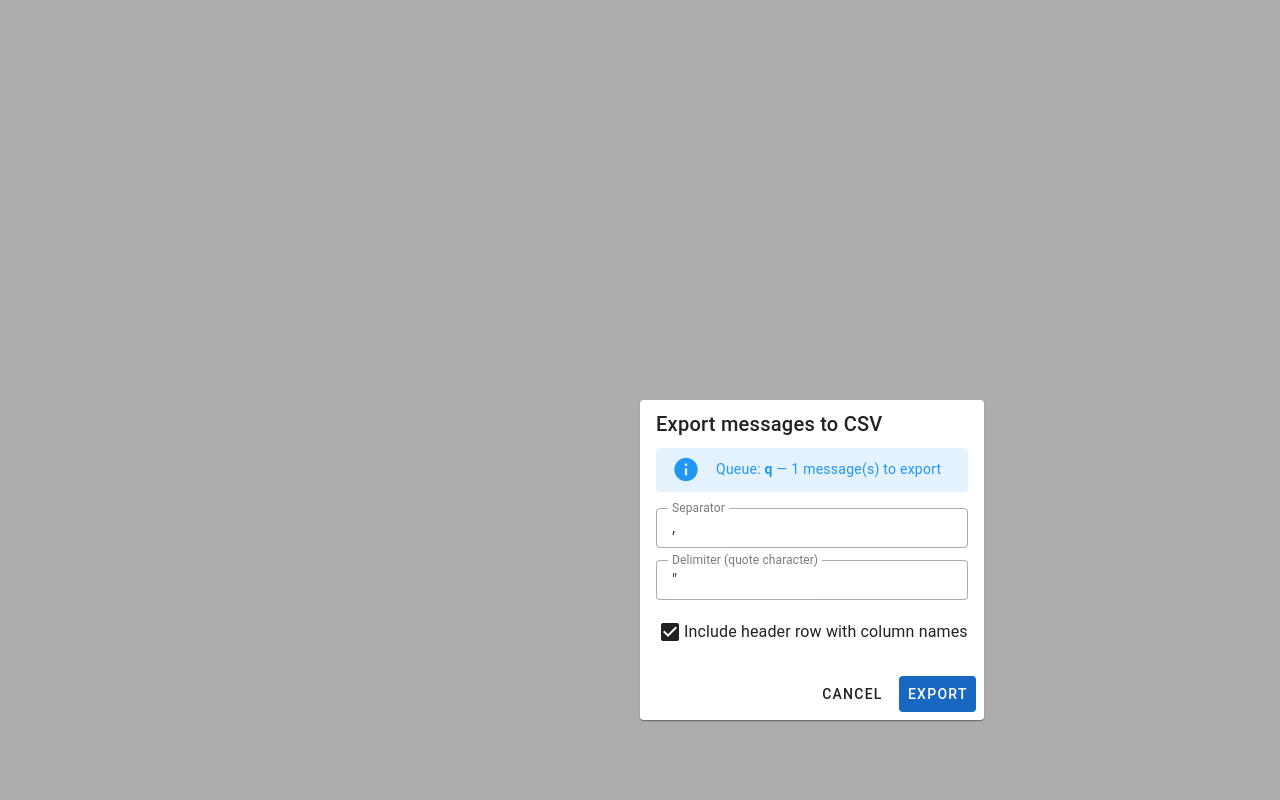
Test: ExportCsvDialog › disables Export when separator and delimiter are equal
Replace the text in the field labelled "Separator" with "\"" at (812, 528), box [656,508,968,548]
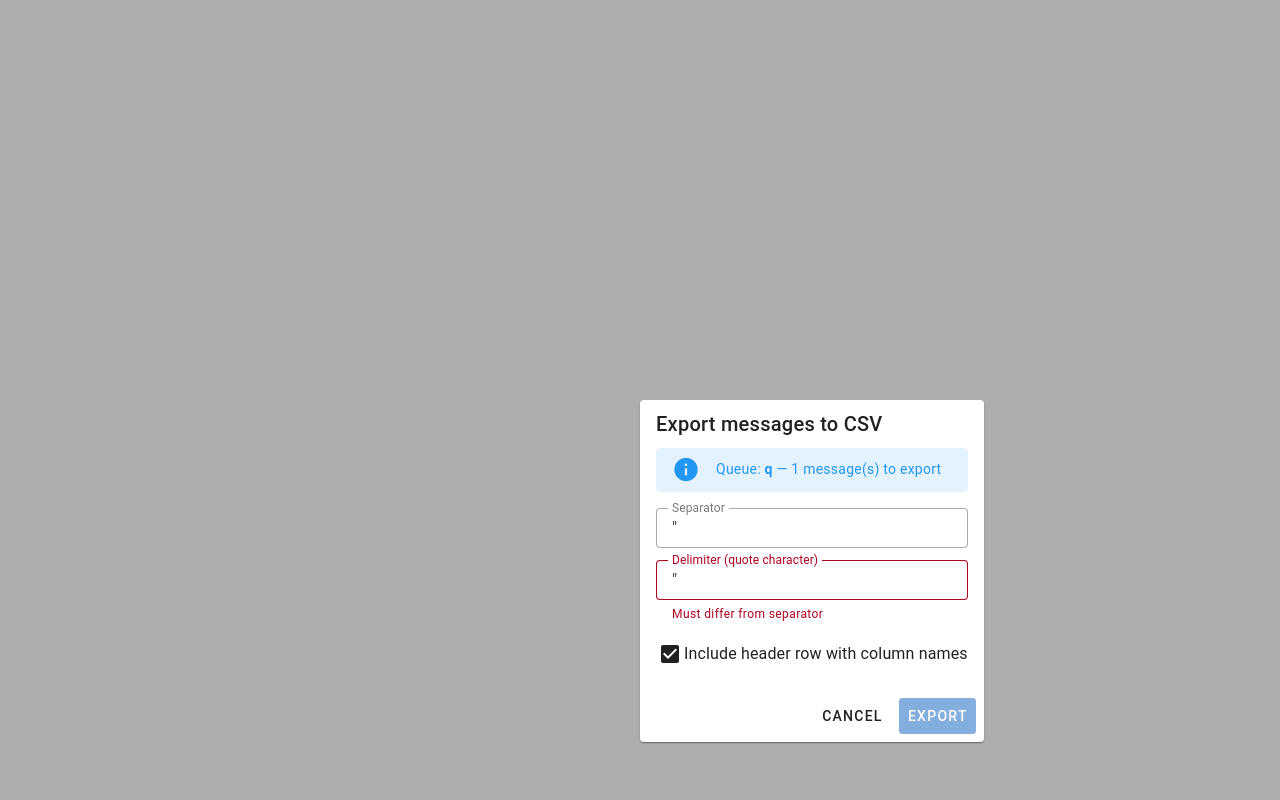
Result: the button with test id "export-confirm" is disabled at [899,698,976,734]
